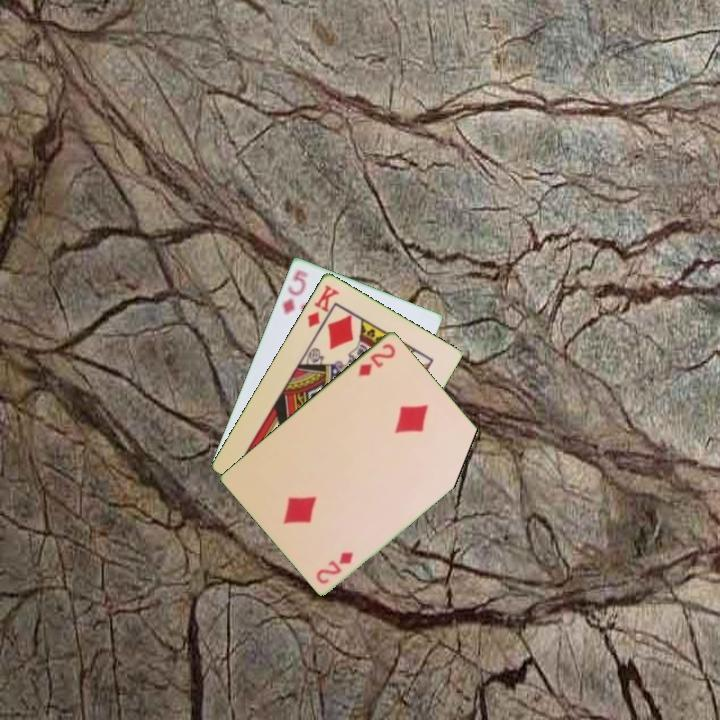2d: (354, 339, 399, 379), (312, 548, 356, 586)
5d: (278, 265, 311, 317)
Kd: (304, 280, 342, 330)
